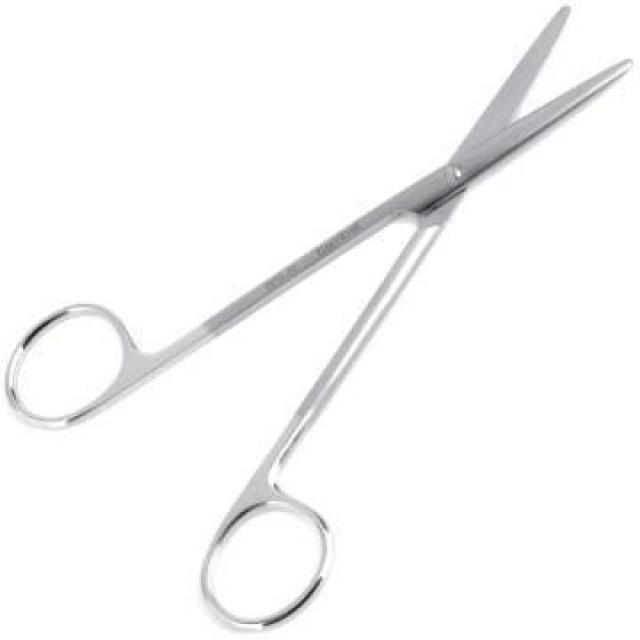Mayo_metz: (5, 0, 633, 631)
